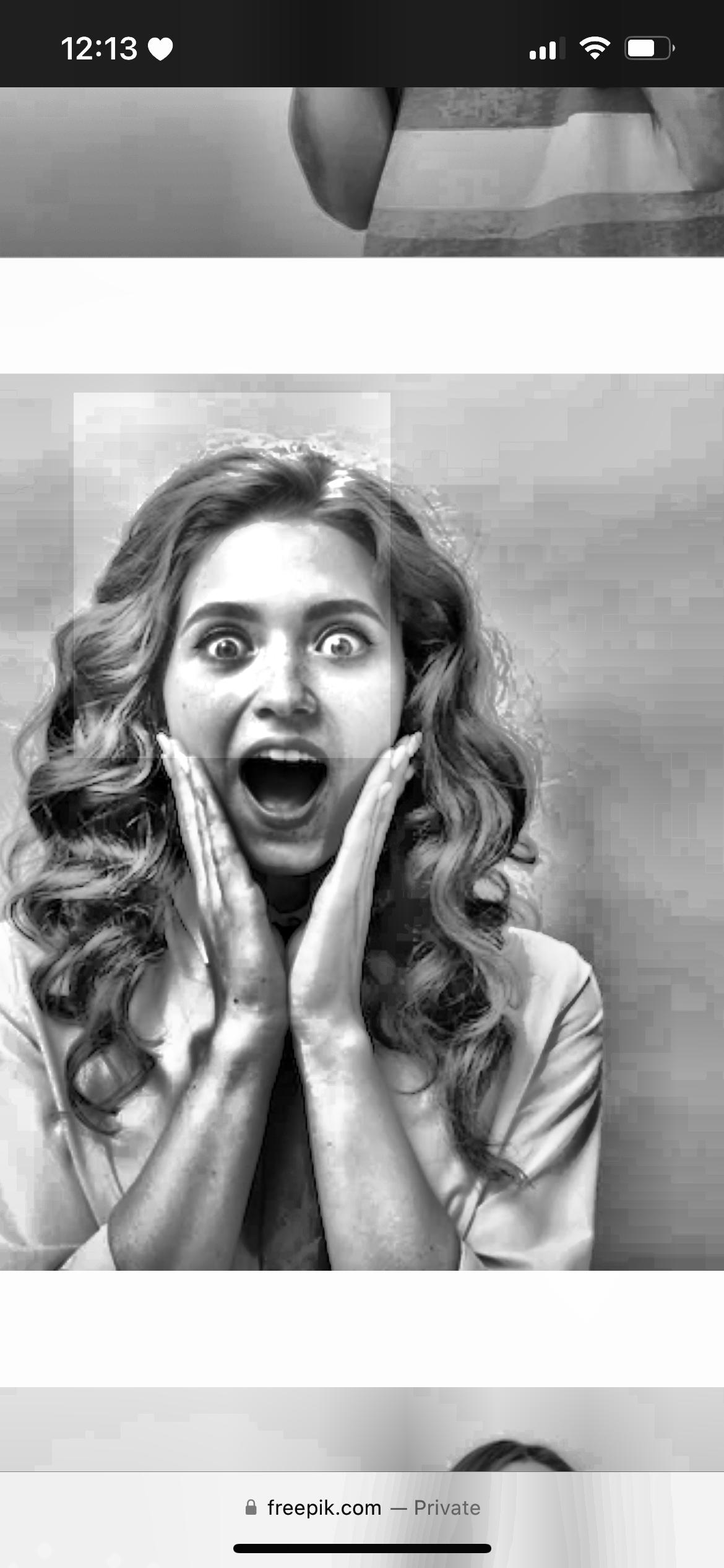surprised: (91, 485, 483, 937)
